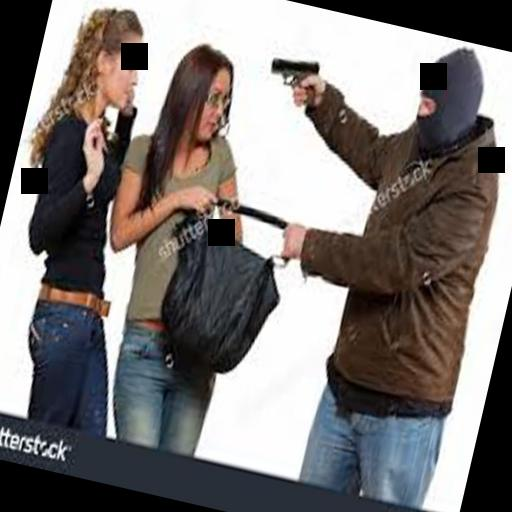Handgun: (259, 42, 335, 119)
